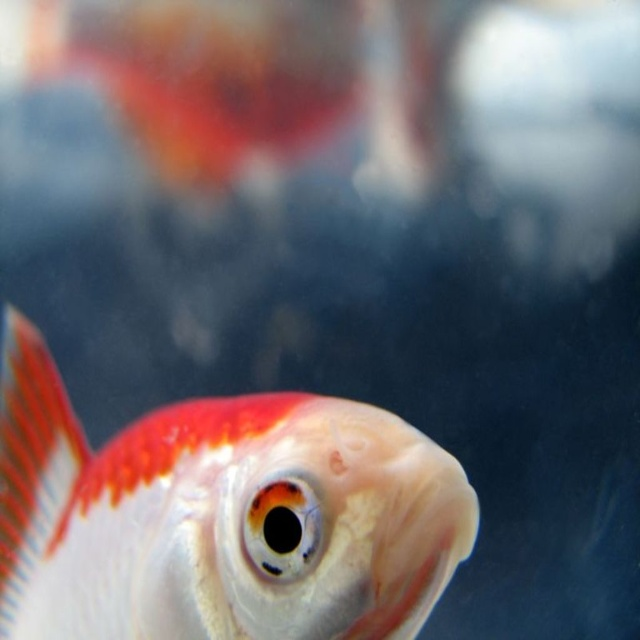Goldfish: (8, 369, 482, 637)
